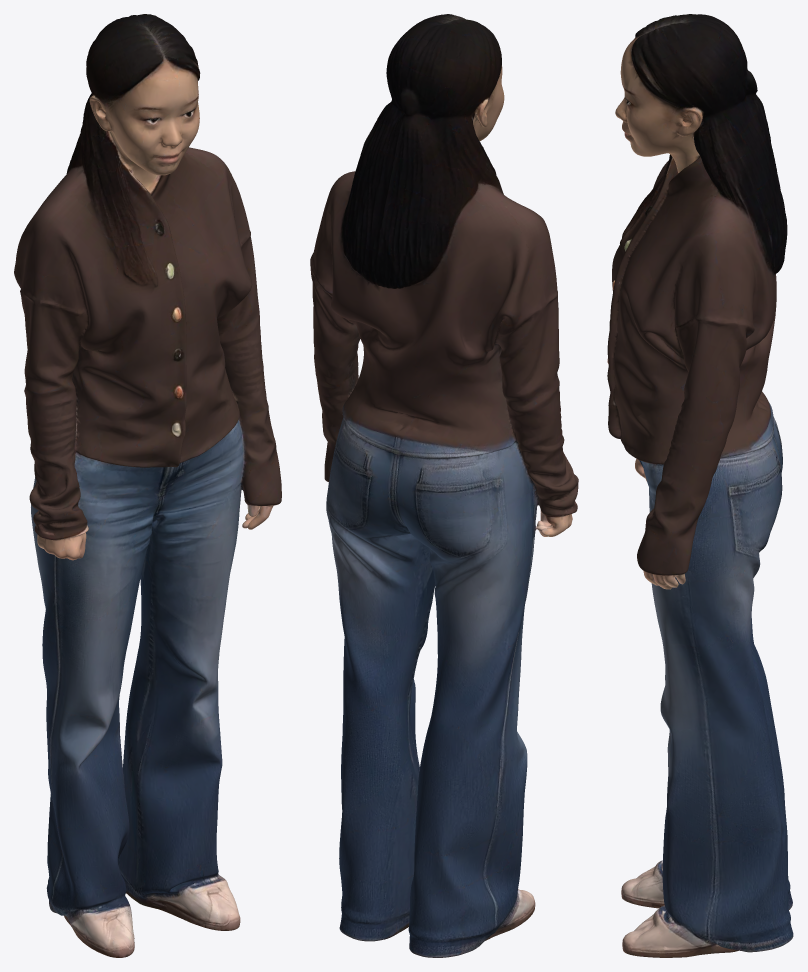
Rendered from diana.glb.
3 views of the same model, side by side, from view 1: azimuth 30°, elevation 25°; view 2: azimuth 150°, elevation 25°; view 3: azimuth 270°, elevation 25° (orthographic).
Size of the model in its own units: 0.5404 by 1.9 by 0.3546.
1 material, 1 textured.
